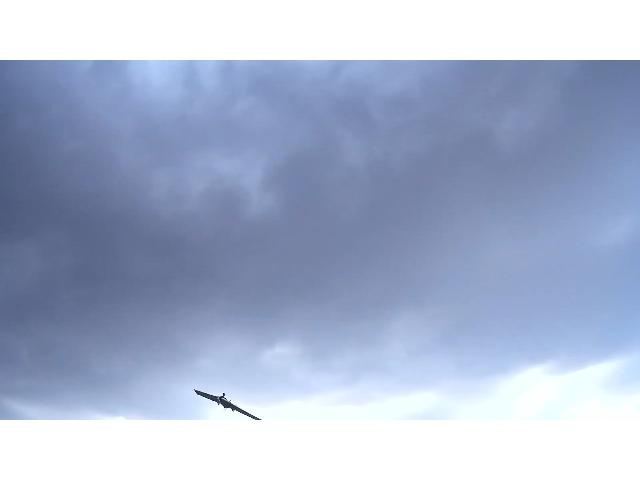Anti-Drone: (190, 386, 274, 419)
